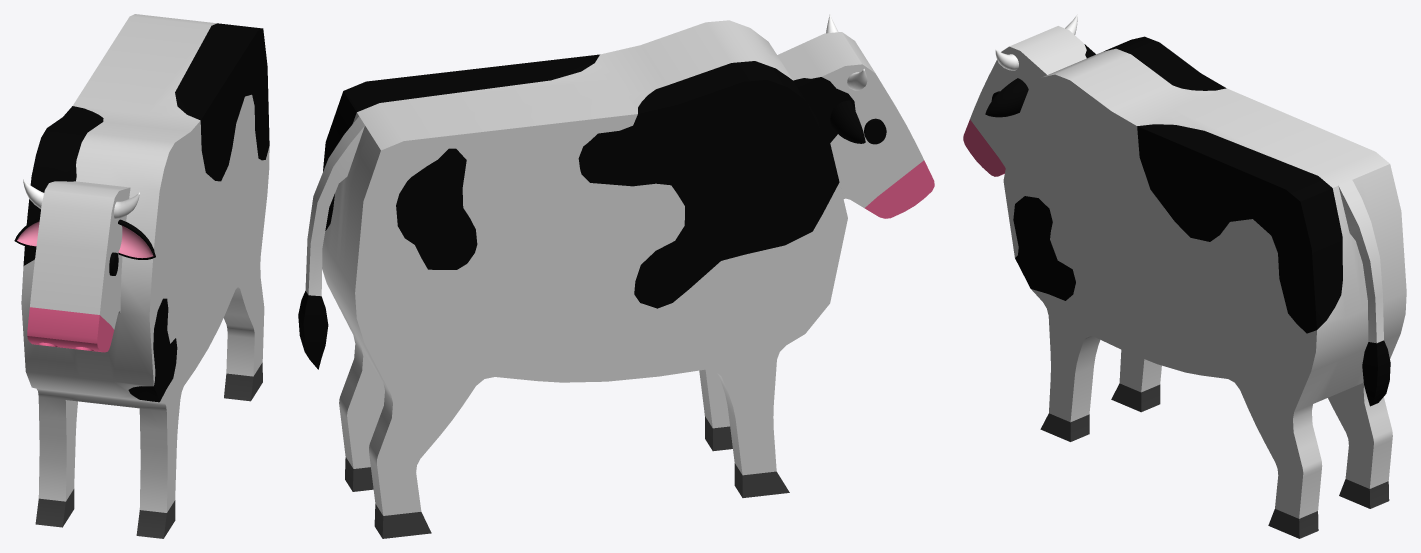
The model's file is cow.glb.
The picture shows the model from 3 angles, left to right: view 1: azimuth 30°, elevation 25°; view 2: azimuth 150°, elevation 25°; view 3: azimuth 270°, elevation 25°; orthographic projection. The views are drawn at different scales.
Parts seen in each view (by area): view 1: Plane.120, Cube.6229, Circle.1894; view 2: Plane.120, Cube.6229; view 3: Plane.120, Cube.6229.
Boxes of the visible parts, x1,y1,x2,y2 form: Plane.120: [21, 14, 269, 538]; Cube.6229: [14, 217, 155, 259]; Circle.1894: [23, 179, 139, 219]; Plane.120: [298, 20, 934, 538]; Cube.6229: [830, 100, 865, 143]; Plane.120: [963, 26, 1406, 538]; Cube.6229: [985, 78, 1028, 117].
Size of the model in its own units: 2.17 by 1.96 by 2.17.
1 material, 1 textured.
